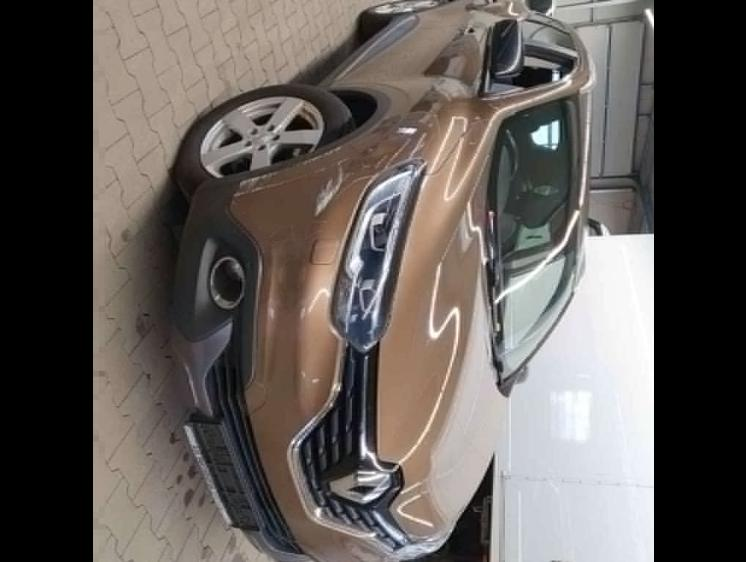Missing part: (188, 424, 261, 527), (492, 46, 576, 88)
Scratch: (231, 156, 350, 200), (314, 162, 346, 216), (237, 169, 285, 189), (299, 147, 340, 165)
